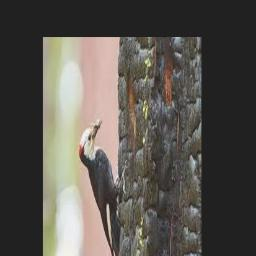Woodpecker: (80, 116, 128, 256)
